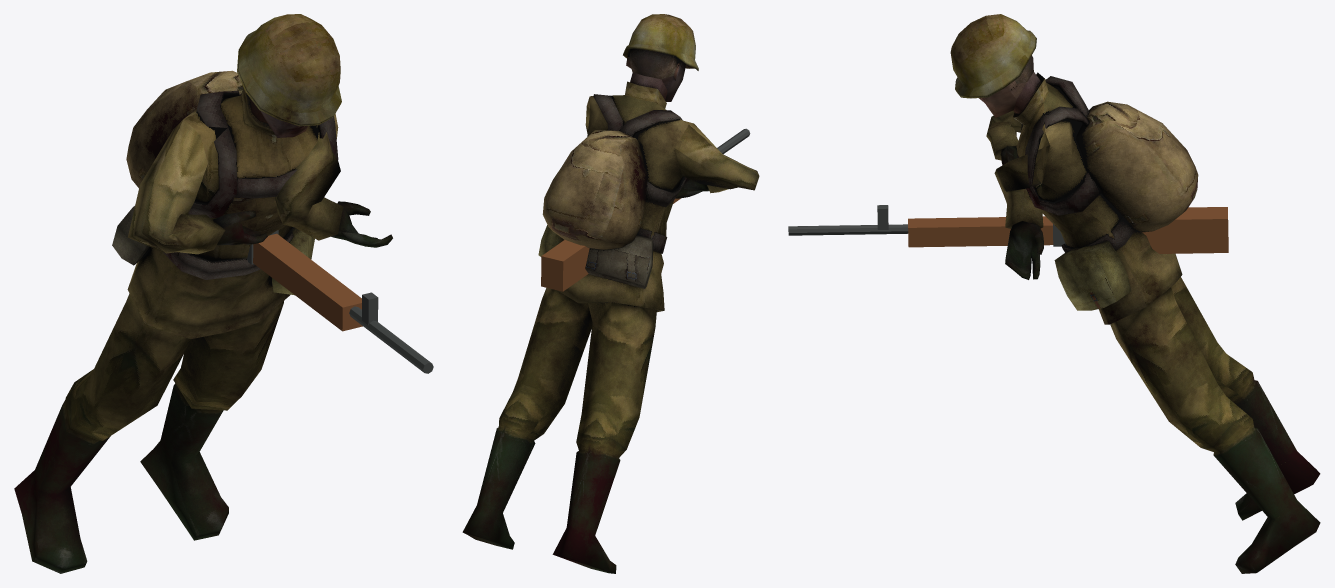
Rendered from soviet_ww2_soldier_death_01.glb.
3 renders of one model, left to right at view 1: azimuth 30°, elevation 25°; view 2: azimuth 150°, elevation 25°; view 3: azimuth 270°, elevation 25°, orthographic. The views are drawn at different scales.
Visible parts, largest first — view 1: final_Static, SovietRifle_Generated; view 2: final_Static, SovietRifle_Generated; view 3: final_Static, SovietRifle_Generated.
Part boxes in pixels (x1,y1,x2,y2): final_Static: [14, 14, 392, 573]; SovietRifle_Generated: [247, 230, 433, 373]; final_Static: [462, 14, 759, 573]; SovietRifle_Generated: [541, 128, 750, 291]; final_Static: [950, 14, 1320, 573]; SovietRifle_Generated: [788, 205, 1228, 253].
Bounding box in the file's own units: 0.6814 × 1.62 × 1.49.
Materials: 3 (1 with a texture image).
